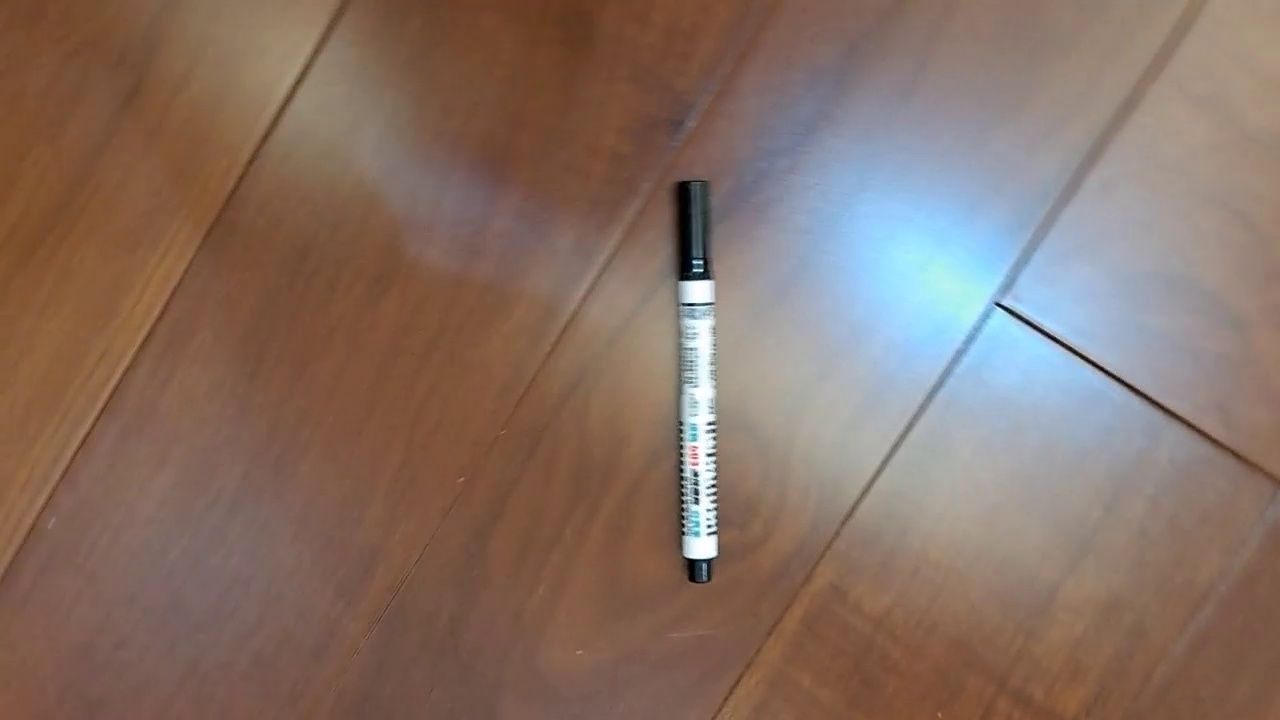pen: (671, 178, 721, 585)
